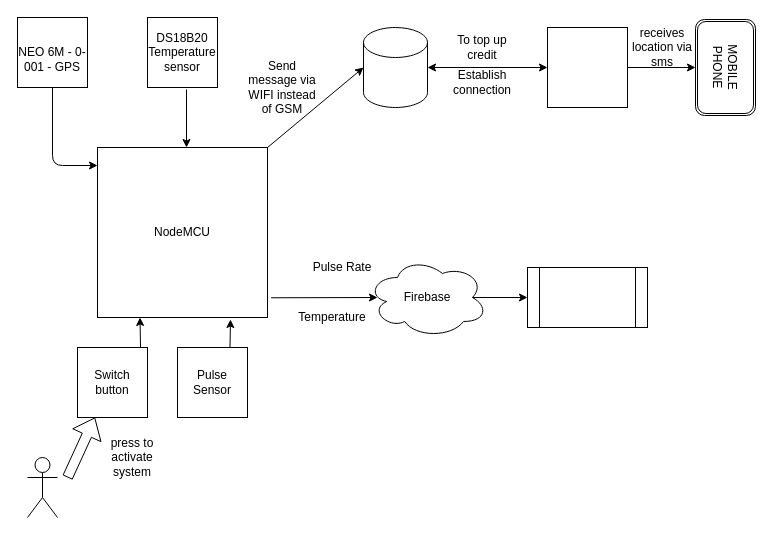
This 773x556 diagram has some shape labels left out. The shapes that lost their labels are listed below. From the top down, each one's centre as x and y in pixels, then its label:
(x=395, y=67): Africa's talking
(x=587, y=67): Safaricom
(x=587, y=297): ML algorith
(x=42, y=487): User
